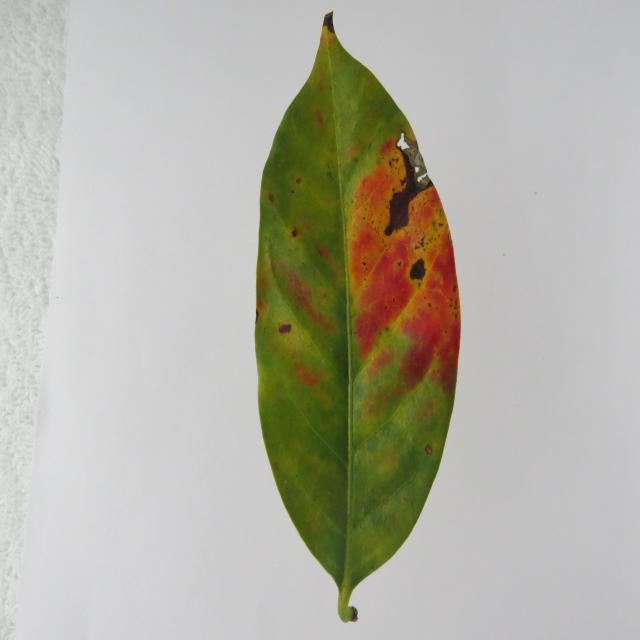DeficienciaNutricional-Fosforo: (255, 13, 460, 622)
